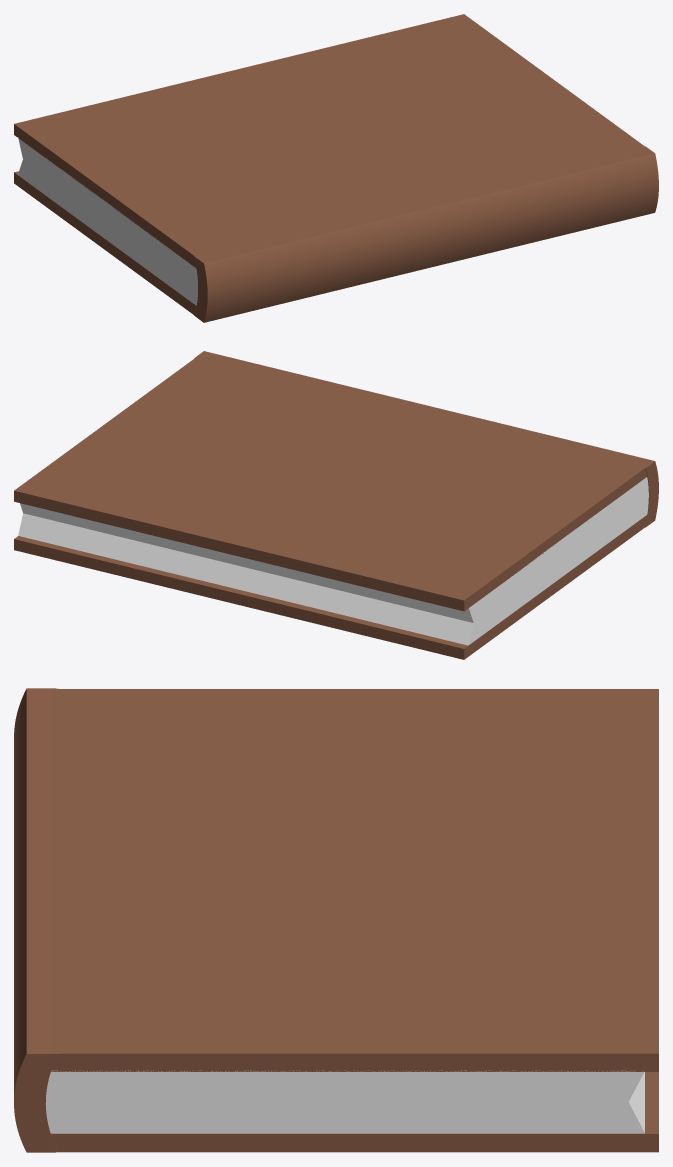
File: book.fbx
3 renders of one model, top to bottom at view 1: azimuth 30°, elevation 25°; view 2: azimuth 150°, elevation 25°; view 3: azimuth 270°, elevation 25°, orthographic. The views are drawn at different scales.
Parts seen in each view (by area): view 1: Cube.001, Cube.004, Cube, Cube.003; view 2: Cube.001, Cube, Cube.003, Cube.004; view 3: Cube.001, Cube, Cube.004, Cube.003.
Part boxes in pixels (x1,y1,x2,y2): Cube.001: (14,14,646,268); Cube.004: (194,146,658,322); Cube: (18,137,197,305); Cube.003: (14,171,196,315); Cube.001: (14,357,647,611); Cube: (18,477,648,645); Cube.003: (14,515,647,659); Cube.004: (194,351,658,527); Cube.001: (51,689,658,1071); Cube: (45,1070,644,1133); Cube.004: (14,688,58,1152); Cube.003: (51,1072,658,1152).
Bounding box in the file's own units: 200 × 25.29 × 150.
